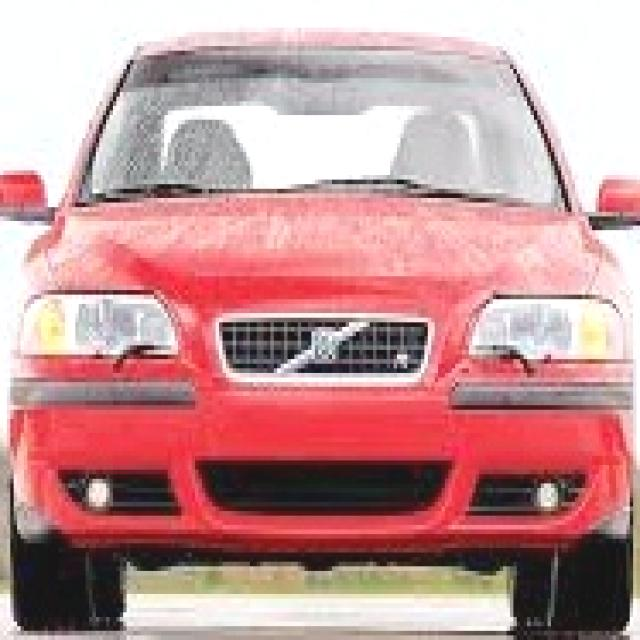red: (11, 20, 640, 616)
